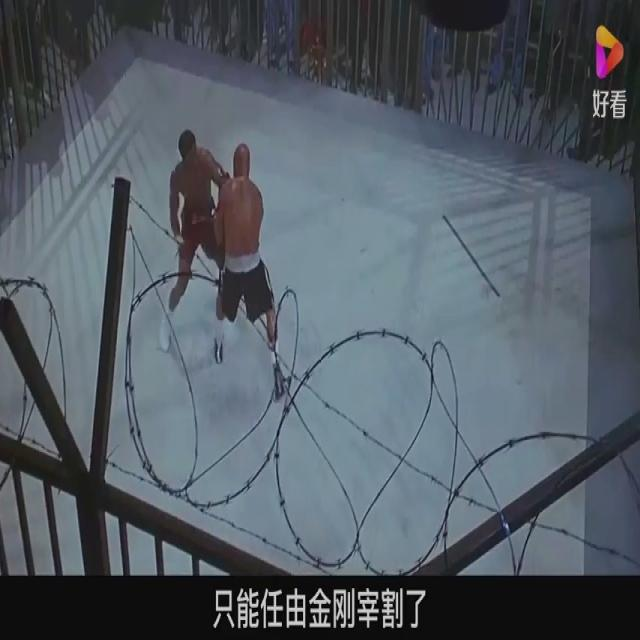fight: (162, 120, 285, 368)
